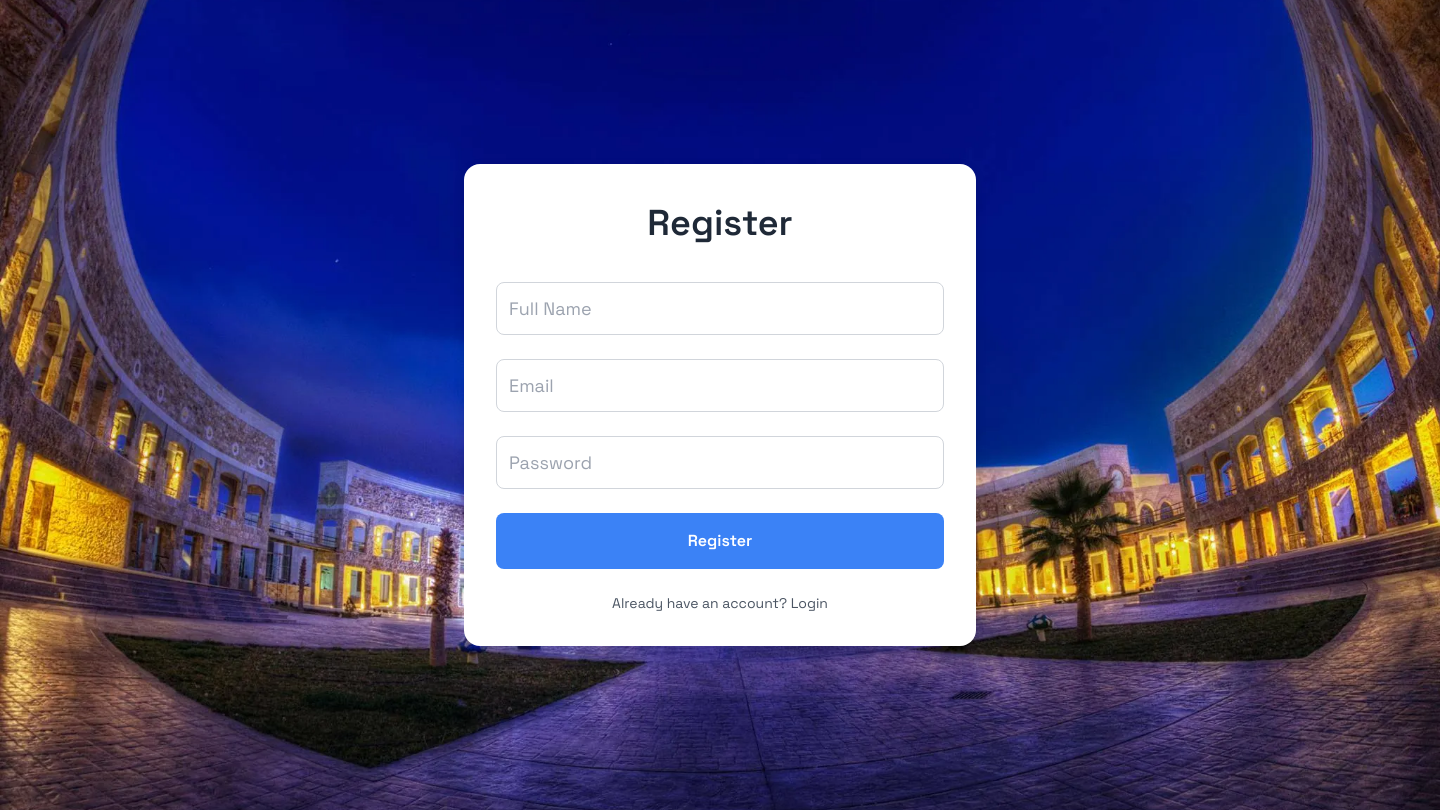
it: RegisterForm › RegisterForm validation › shows error for invalid password format
This screenshot has width=1440, height=810.
Type "Valid Name" into the field with placeholder "Full Name" at (720, 308), box 496,282 -> 944,335
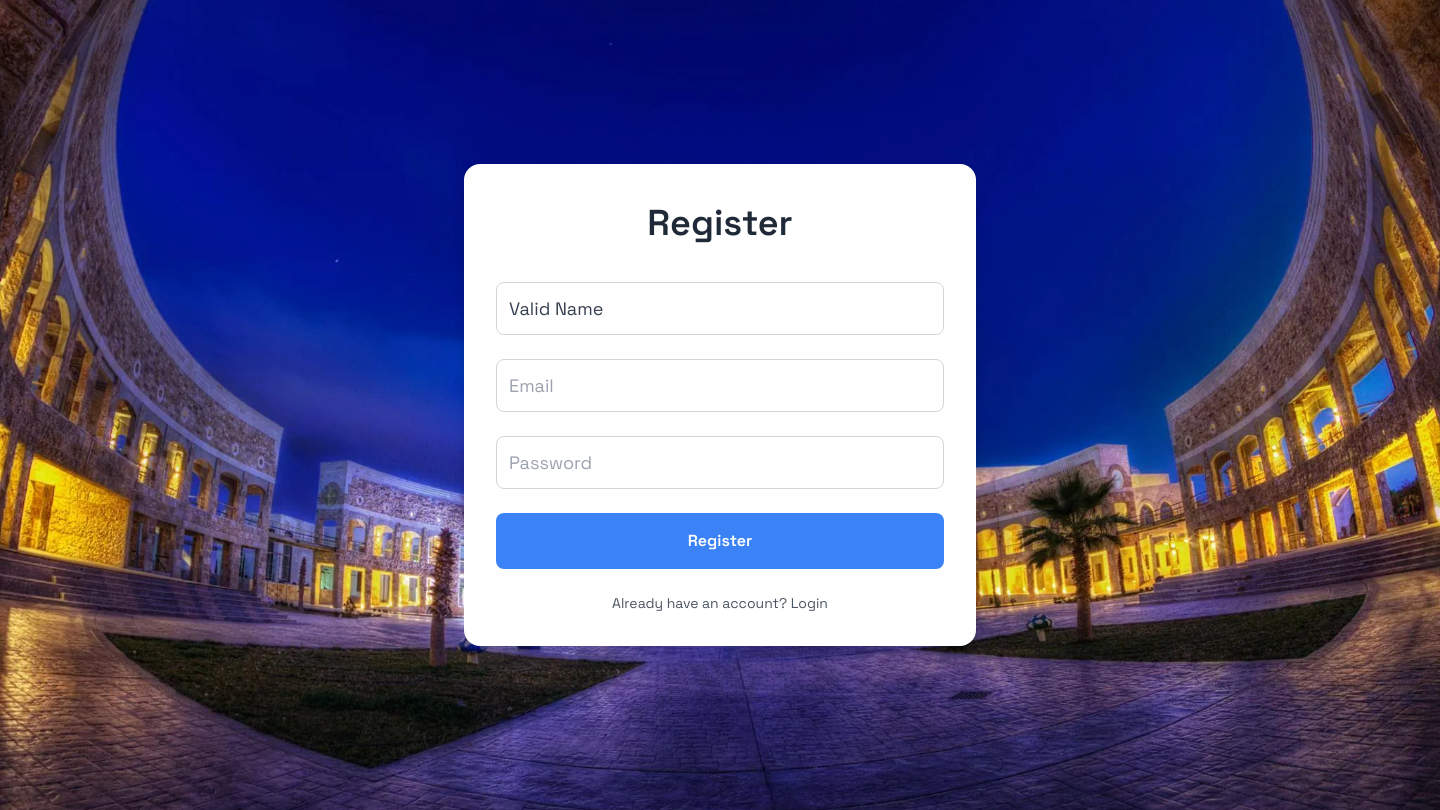
Type "valid@email.com" into the field with placeholder "Email" at (720, 386), box 496,359 -> 944,412
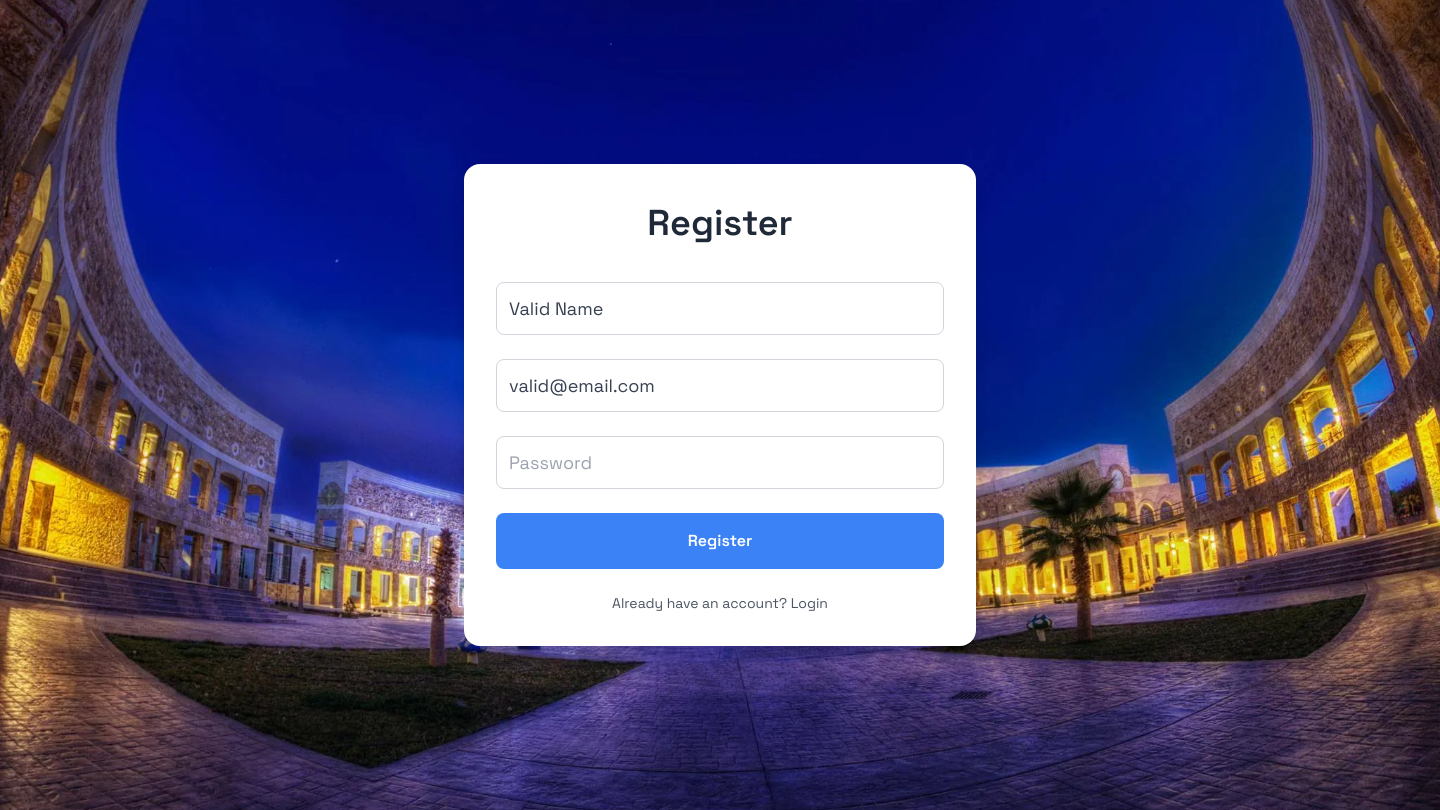
Type "1111" into the password field with placeholder "Password" at (720, 462), box 496,436 -> 944,489
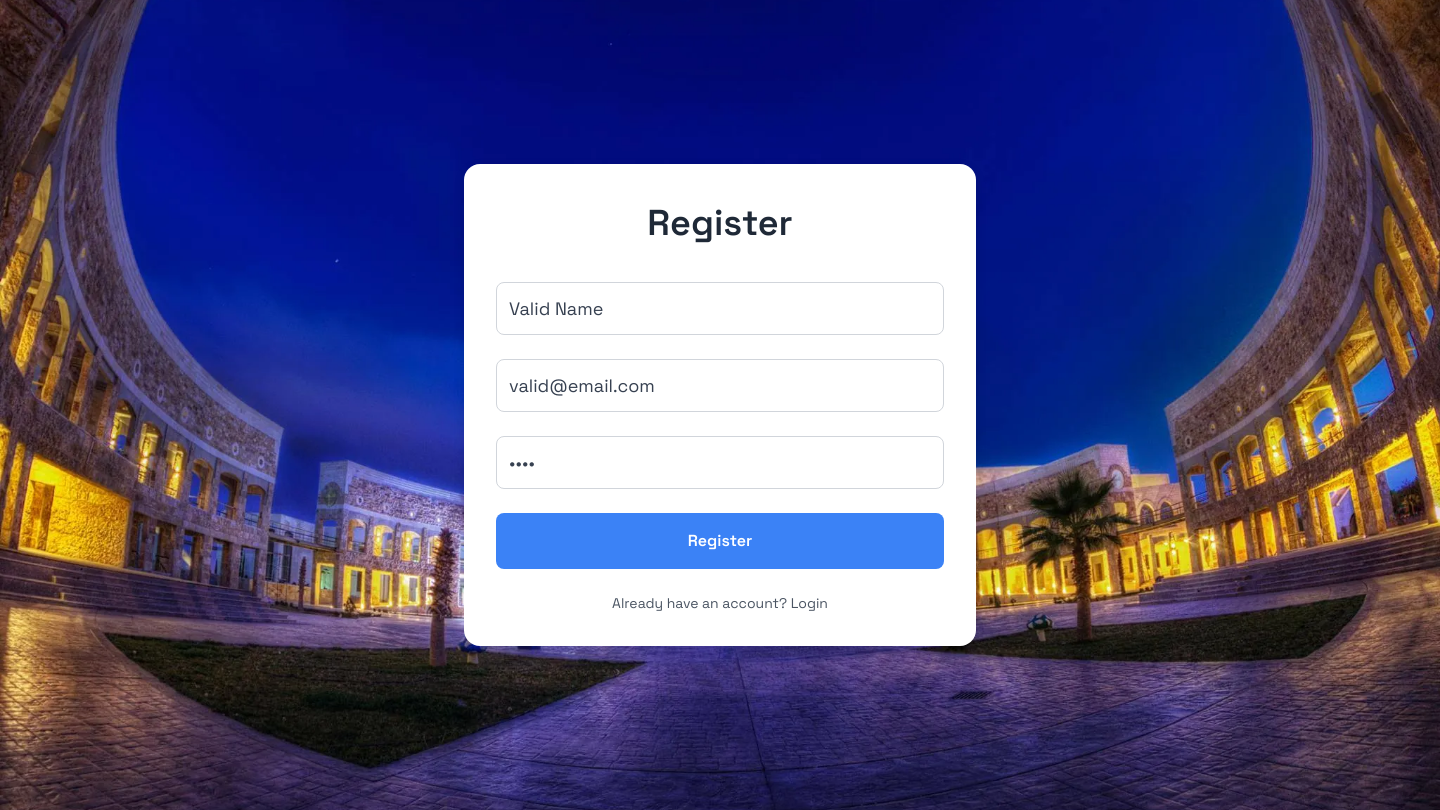
Click the button "Register" at (720, 541), box 496,513 -> 944,569
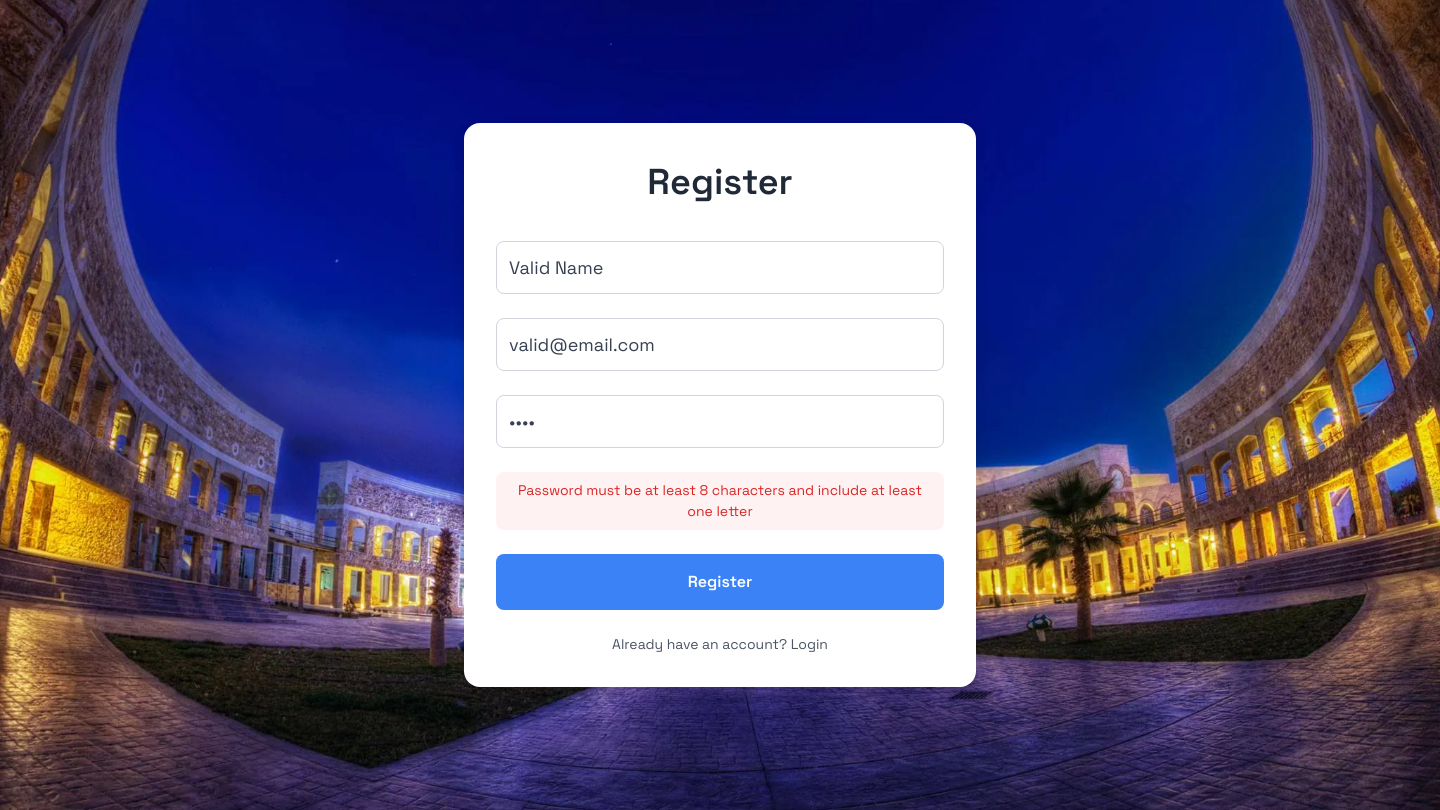
Expected: the text "Password must be at least 8 characters and include at least one letter" is shown, 496,472 -> 944,530
